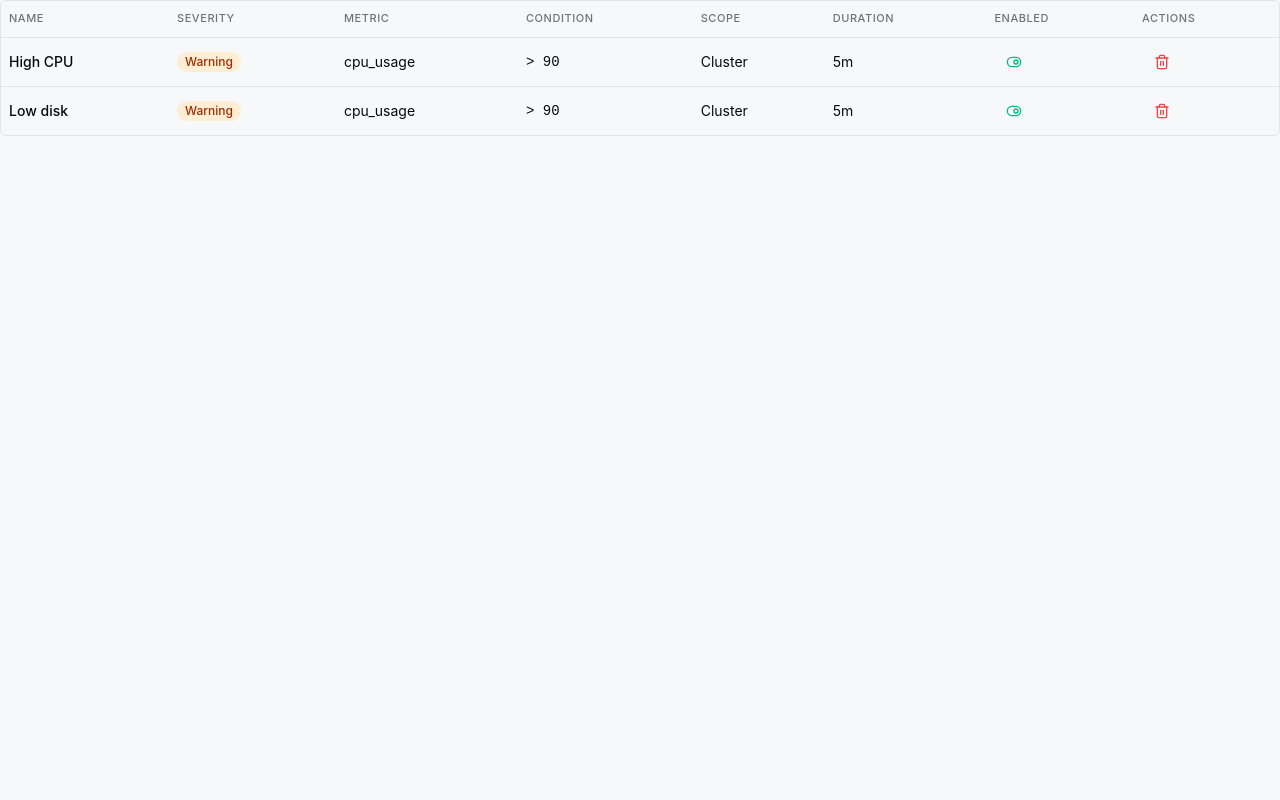
it: AlertRulesTable — delete › asks first, naming the rule, and sends nothing yet
Click the button named "Delete rule" in the row of "Low disk" at (1162, 110), box 1142,94 -> 1182,126
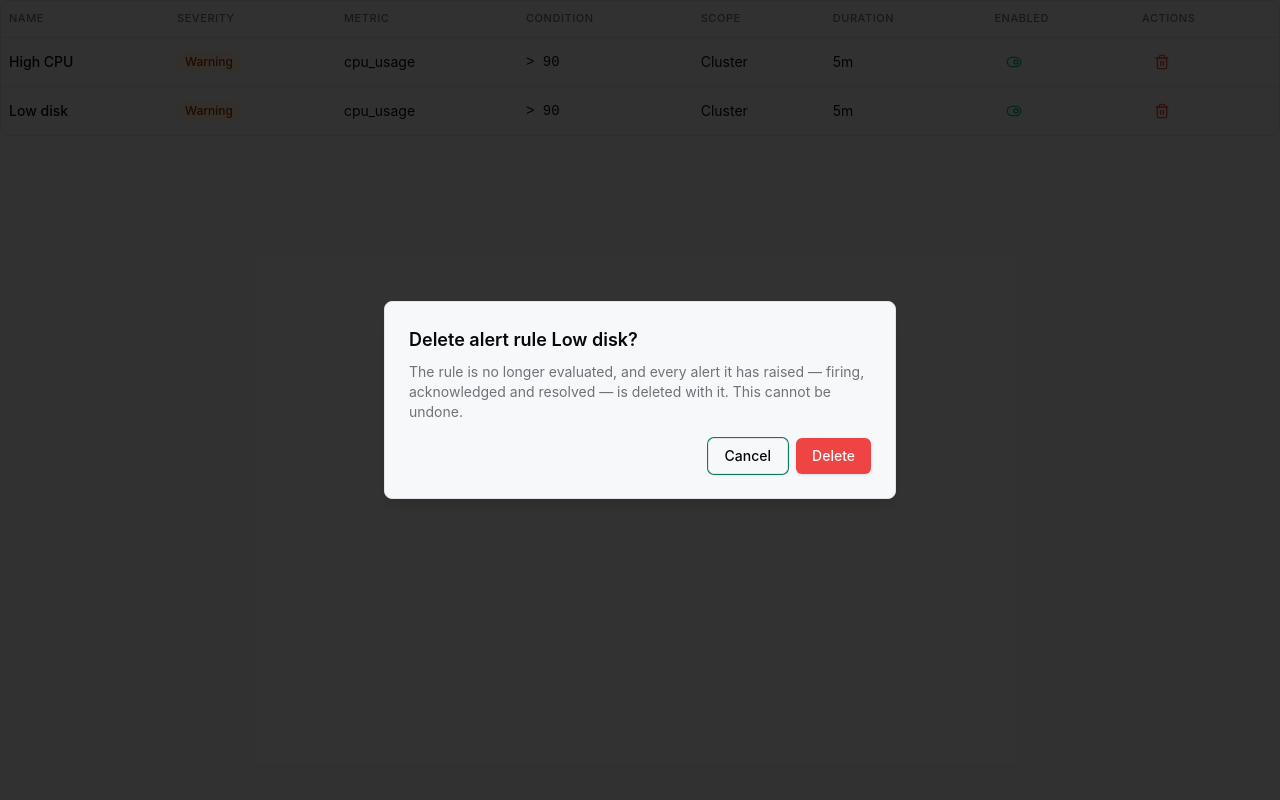
Expected: the dialog shows "Delete alert rule Low disk?", 409,329 -> 638,350
Expected: the dialog shows "every alert it has raised", 409,363 -> 864,420
